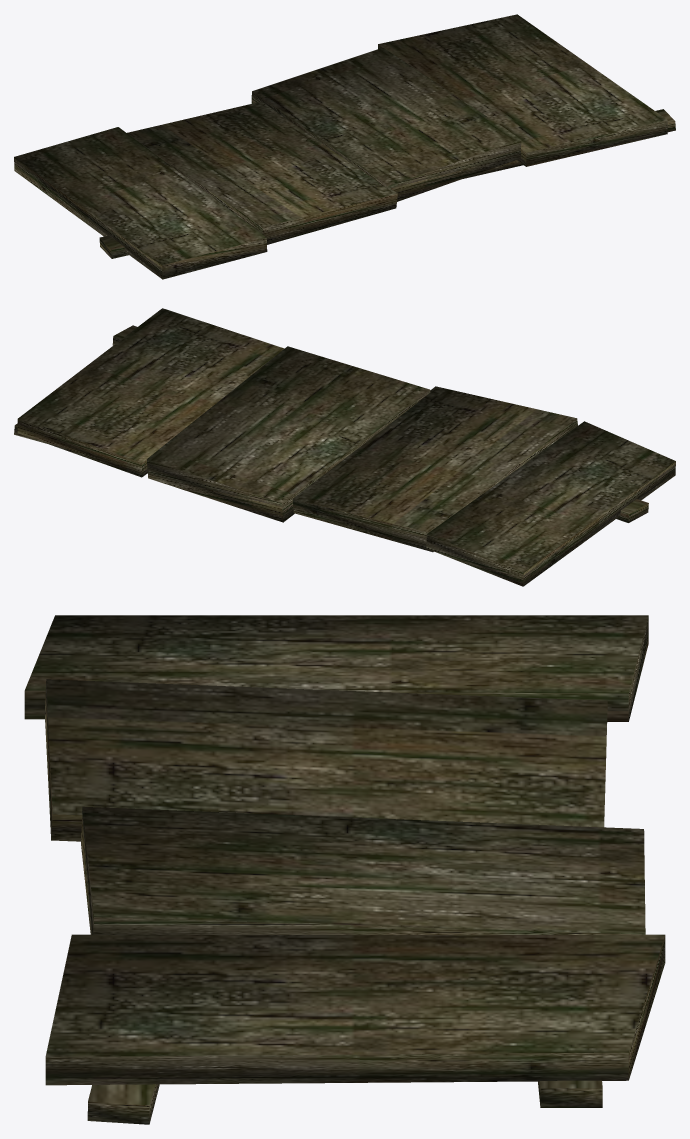
The model's file is OW_LOB_WOODPLANKS_V4.glb.
3 views of the same model, one above another, from view 1: azimuth 30°, elevation 25°; view 2: azimuth 150°, elevation 25°; view 3: azimuth 270°, elevation 25° (orthographic). The views are drawn at different scales.
Visible parts, largest first — view 1: Mesh; view 2: Mesh; view 3: Mesh.
Part boxes in pixels (x1,y1,x2,y2): Mesh: [14, 14, 675, 279]; Mesh: [14, 308, 675, 586]; Mesh: [24, 615, 665, 1124].
Bounding box in the file's own units: 5.97 × 0.5642 × 3.08.
1 material, 1 textured.
